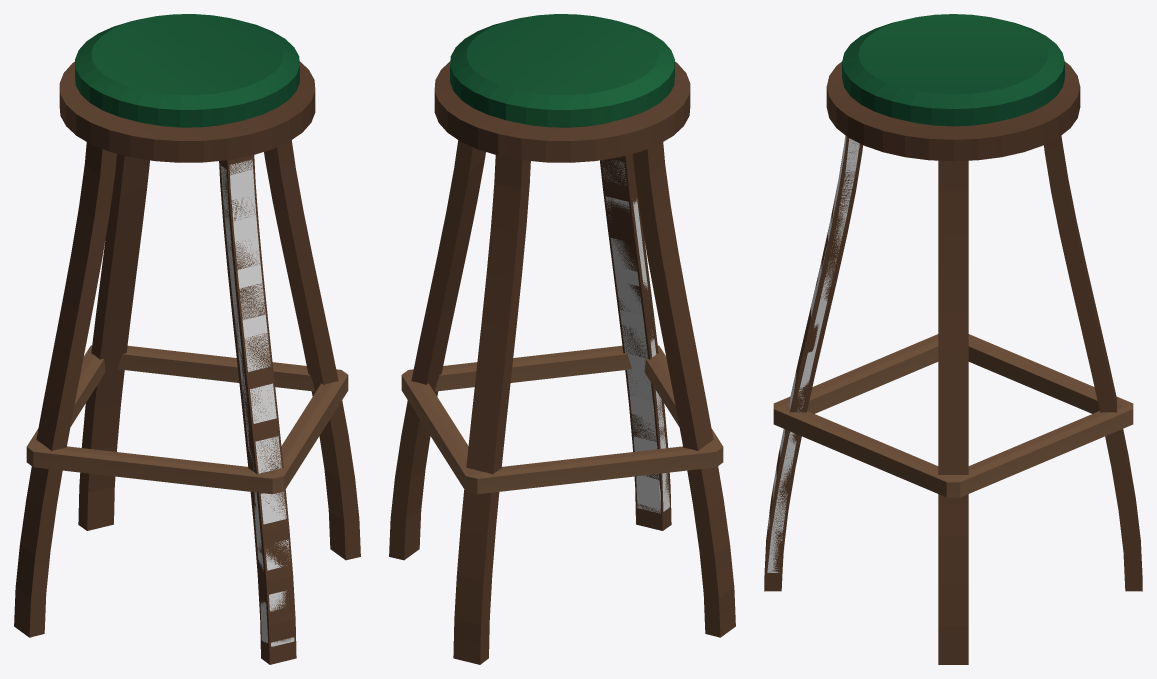
Rendered from stool.fbx.
The picture shows the model from 3 angles, left to right: view 1: azimuth 30°, elevation 25°; view 2: azimuth 150°, elevation 25°; view 3: azimuth 270°, elevation 25°; orthographic projection.
Parts seen in each view (by area): view 1: Cube.005, Cylinder.001, Cube.006, Cylinder, Cube; view 2: Cube.005, Cylinder.001, Cube.006, Cylinder, Cube; view 3: Cube.005, Cylinder.001, Cube.006, Cylinder, Cube.
Part boxes in pixels (x1,y1,x2,y2): Cube.005: (14,140,360,664); Cylinder.001: (75,14,299,127); Cube.006: (26,345,348,494); Cylinder: (59,61,315,162); Cube: (220,159,294,646); Cube.005: (389,140,735,664); Cylinder.001: (450,14,674,127); Cube.006: (401,345,723,494); Cylinder: (434,61,690,162); Cube: (602,160,669,513); Cube.005: (764,135,1142,664); Cylinder.001: (842,14,1064,126); Cube.006: (773,334,1133,497); Cylinder: (826,61,1080,161); Cube: (767,135,859,572).
Bounding box in the file's own units: 448 × 693 × 448.
